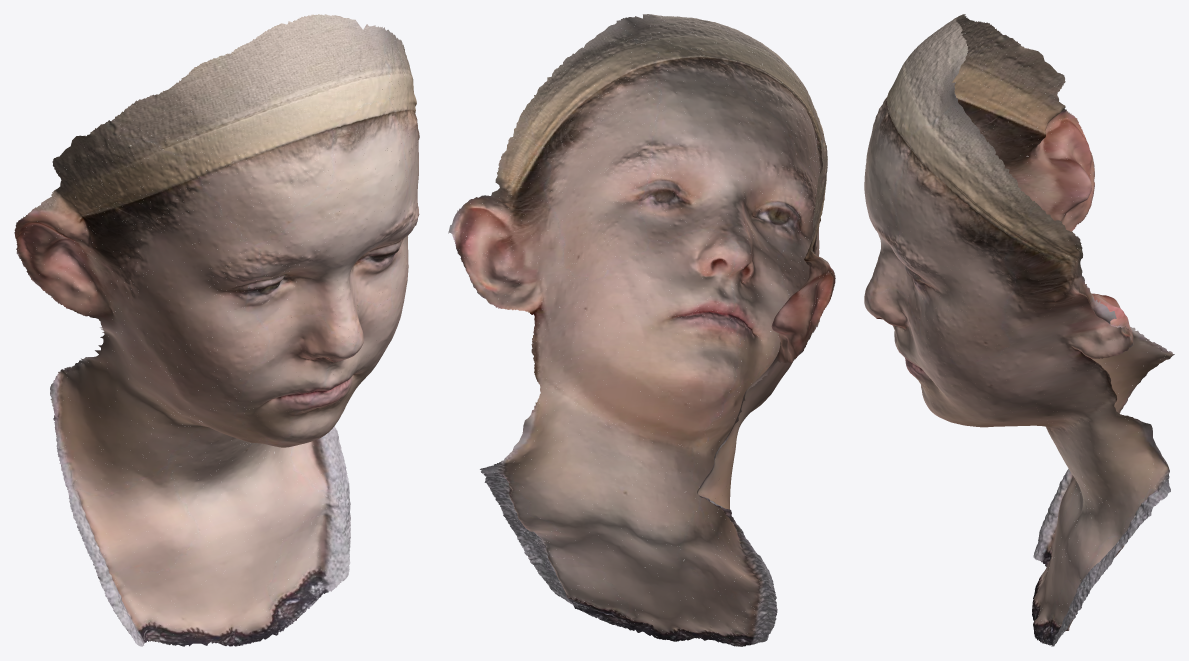
The model's file is 头像_带标注_发带女孩扫描01_opt.glb.
3 views of the same model, side by side, from view 1: azimuth 30°, elevation 25°; view 2: azimuth 150°, elevation 25°; view 3: azimuth 270°, elevation 25° (orthographic). The views are drawn at different scales.
Parts seen in each view (by area): view 1: defaultMat_2, defaultMat, defaultMat_4, defaultMat_3, defaultMat_1, defaultMat_5; view 2: defaultMat_2, defaultMat, defaultMat_4, defaultMat_3, defaultMat_1, defaultMat_5; view 3: defaultMat, defaultMat_2, defaultMat_4, defaultMat_1, defaultMat_3, defaultMat_5.
Boxes of the visible parts, box(x1,y1,x2,y2) form: defaultMat_2: box(24, 20, 419, 645); defaultMat: box(14, 14, 419, 646); defaultMat_4: box(36, 44, 417, 597); defaultMat_3: box(26, 19, 418, 643); defaultMat_1: box(16, 14, 418, 646); defaultMat_5: box(49, 45, 417, 588); defaultMat_2: box(454, 17, 827, 641); defaultMat: box(449, 14, 835, 646); defaultMat_4: box(462, 22, 831, 612); defaultMat_3: box(456, 18, 822, 638); defaultMat_1: box(448, 15, 834, 645); defaultMat_5: box(464, 22, 828, 606); defaultMat: box(874, 14, 1170, 646); defaultMat_2: box(864, 18, 1172, 646); defaultMat_4: box(895, 16, 1174, 635); defaultMat_1: box(878, 17, 1168, 642); defaultMat_3: box(864, 20, 1172, 643); defaultMat_5: box(898, 40, 1167, 630).
Size of the model in its own units: 0.1938 by 0.3 by 0.142.
1 material, 1 textured.
